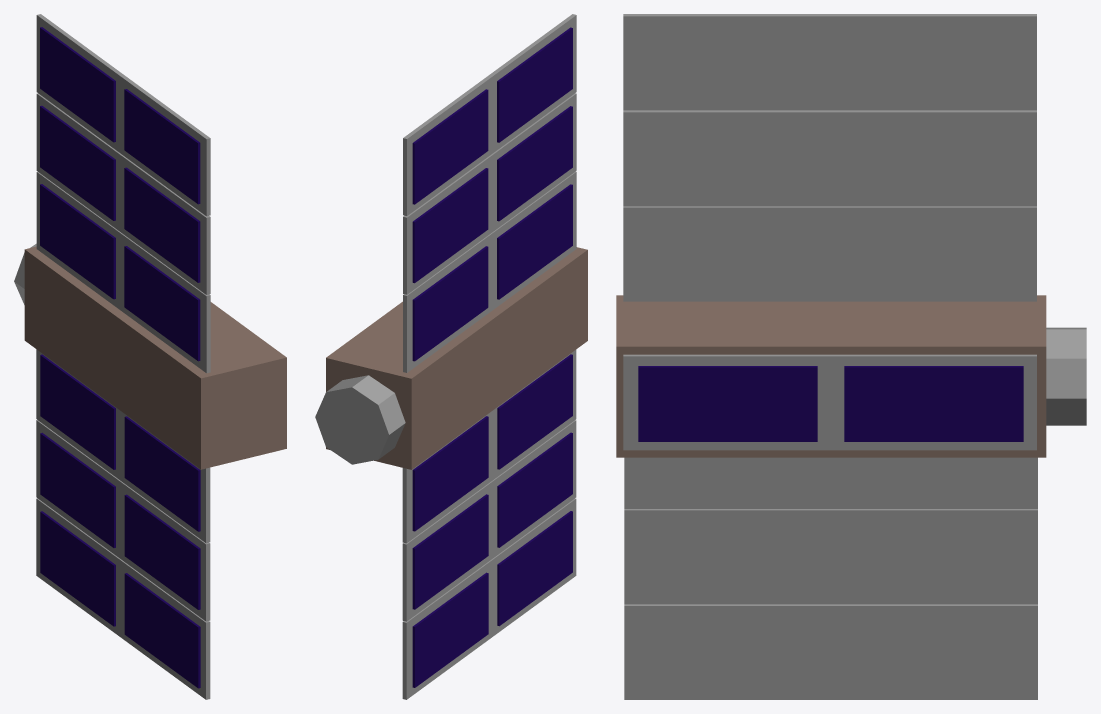
The model's file is flock_low.gltf.
3 renders of one model, left to right at view 1: azimuth 30°, elevation 25°; view 2: azimuth 150°, elevation 25°; view 3: azimuth 270°, elevation 25°, orthographic. The views are drawn at different scales.
Visible parts, largest first — view 1: Cube.008, Cube, Cube.015, Cube.004, Cube.010, Cube.005, Cube.018, Cube.014, Cube.011, Cube.009, Cube.006, Cube.003 (+7 smaller); view 2: Cube.008, Cylinder.000, Cube.009, Cube.006, Cube.017, Cube.003, Cube.014, Cube.011, Cube, Cube.004, Cube.015, Cube.005 (+8 smaller); view 3: Cube.016, Cube.019, Cube.007, Cube.013, Cube.012, Cube.008, Cube.001, Cube.002, Cube.020, Cube.021, Cylinder.000.
Part boxes in pixels (x1,y1,x2,y2): Cube.008: (24,246,286,469); Cube: (124,416,200,531); Cube.015: (124,167,200,282); Cube.004: (124,246,200,361); Cube.010: (124,573,200,688); Cube.005: (124,494,200,609); Cube.018: (124,89,200,204); Cube.014: (40,105,115,220); Cube.011: (40,511,115,626); Cube.009: (40,354,115,469); Cube.006: (40,432,115,547); Cube.003: (40,184,115,299); Cube.008: (326,247,587,469); Cylinder.000: (315,375,405,464); Cube.009: (412,416,488,531); Cube.006: (412,494,488,609); Cube.017: (412,89,488,204); Cube.003: (412,246,488,361); Cube.014: (412,168,488,283); Cube.011: (412,572,488,687); Cube: (497,354,572,469); Cube.004: (497,184,572,299); Cube.015: (497,106,572,221); Cube.005: (497,432,572,547); Cube.016: (623,110,1036,206); Cube.019: (623,14,1036,110); Cube.007: (624,509,1037,604); Cube.013: (623,206,1036,301); Cube.012: (624,604,1037,699); Cube.008: (616,295,1046,457); Cube.001: (624,457,1037,508); Cube.002: (844,366,1023,441); Cube.020: (638,366,817,441); Cube.021: (623,354,1036,450); Cylinder.000: (1046,327,1086,425).
Bounding box in the file's own units: 1.63 × 9.63 × 6.
